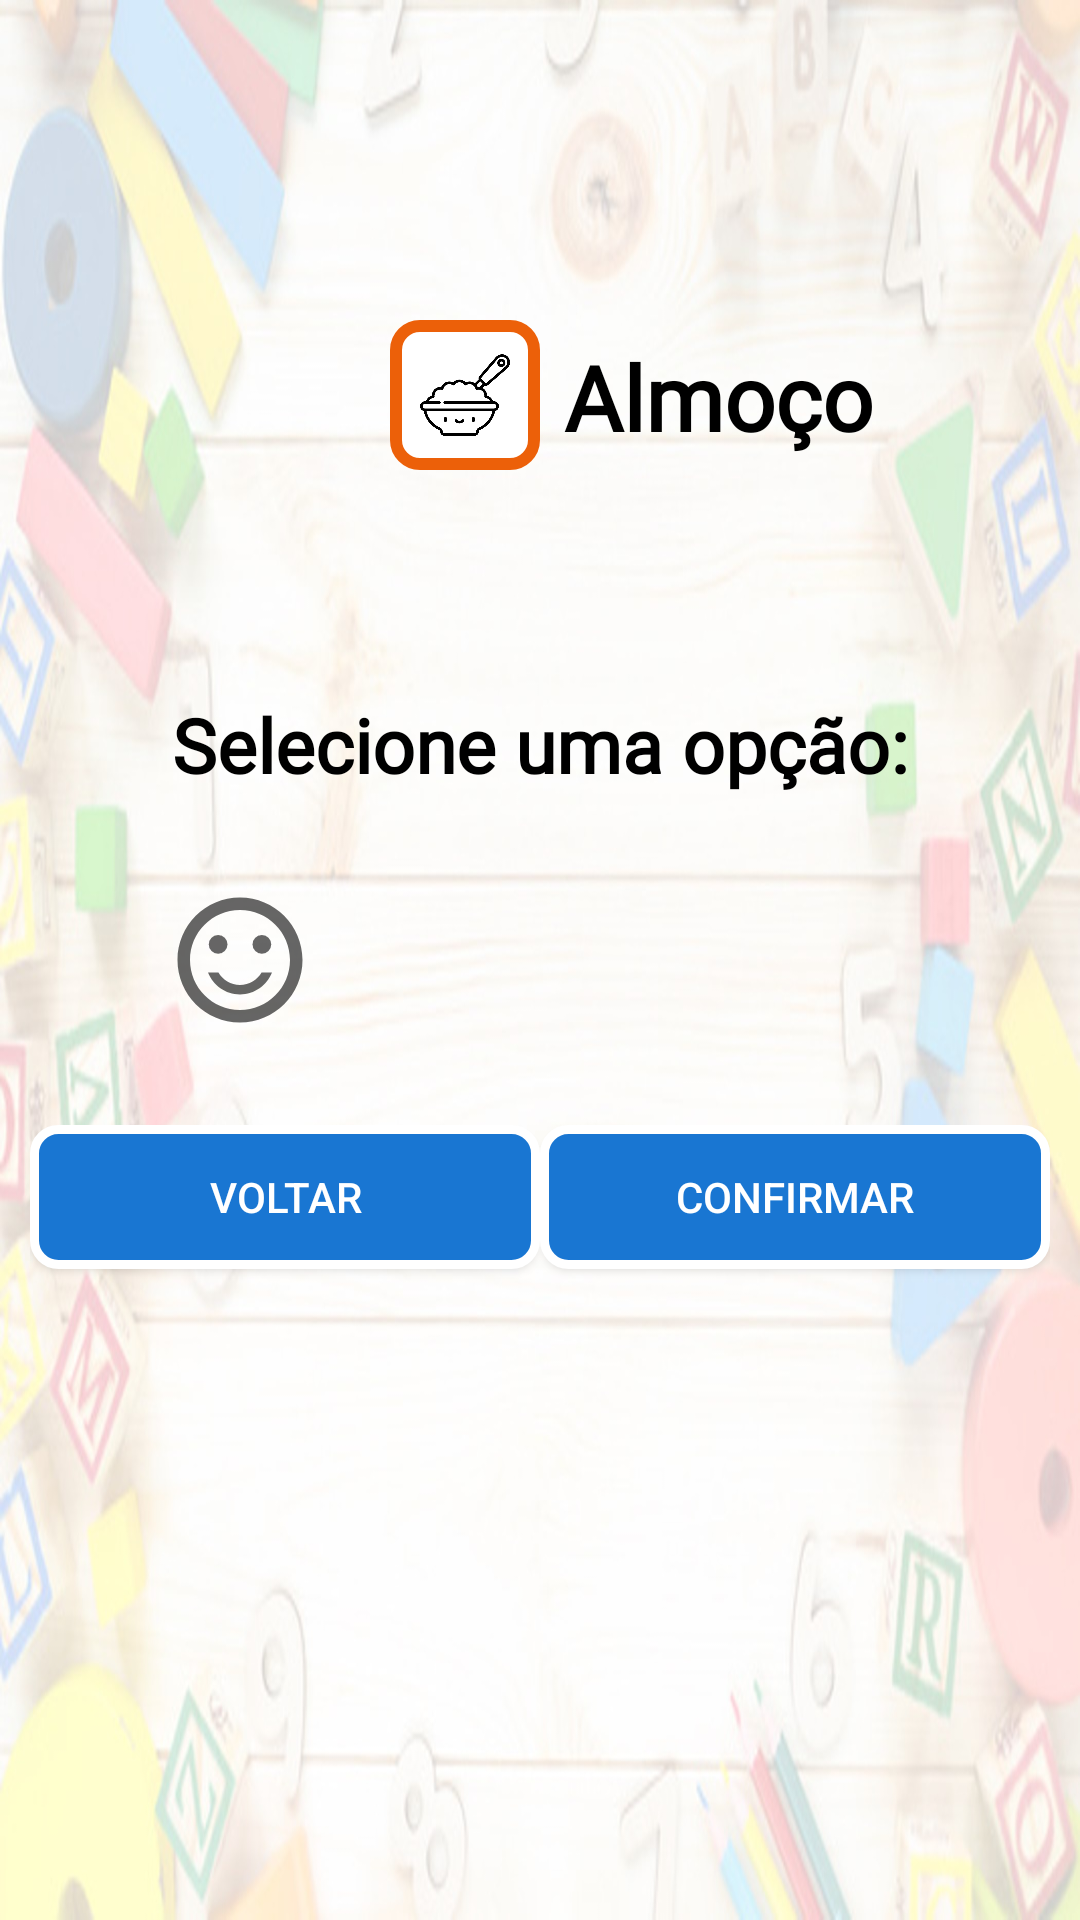

Point at icon controls on the screen. Image size 1080×1920, points as point (x, y).
lunch: point (465, 395)
satisfied: point (240, 960)
